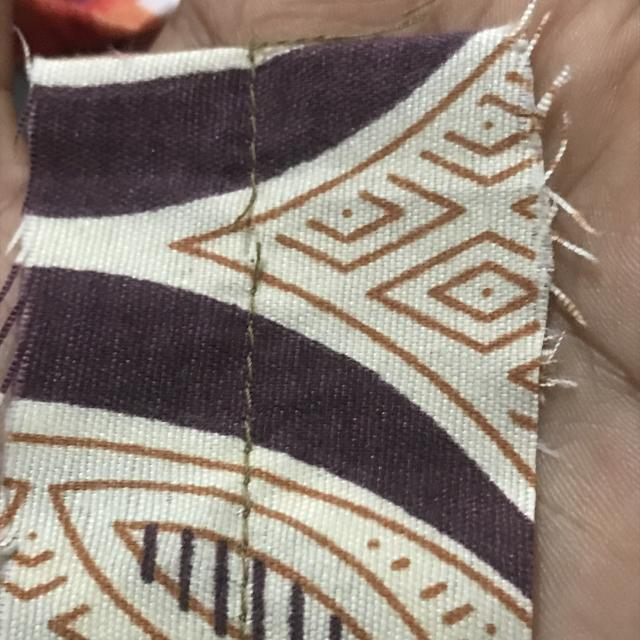broken: (217, 161, 300, 298)
good: (220, 324, 276, 488)
